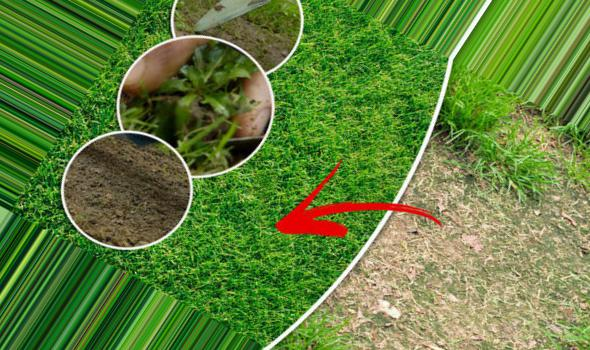patch: (459, 189, 582, 336), (395, 245, 551, 342), (359, 284, 422, 344)
